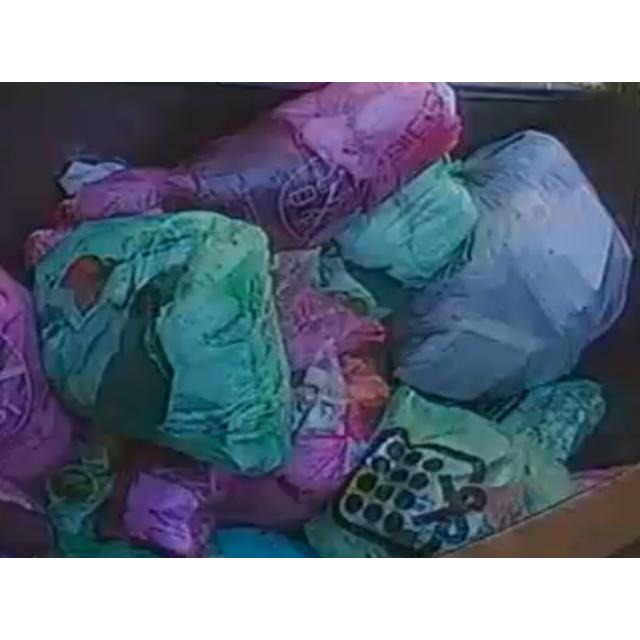general_trashbag: (35, 211, 291, 474), (308, 386, 574, 556), (340, 162, 478, 285)
other_trashbag: (398, 131, 630, 404), (189, 82, 461, 250)
